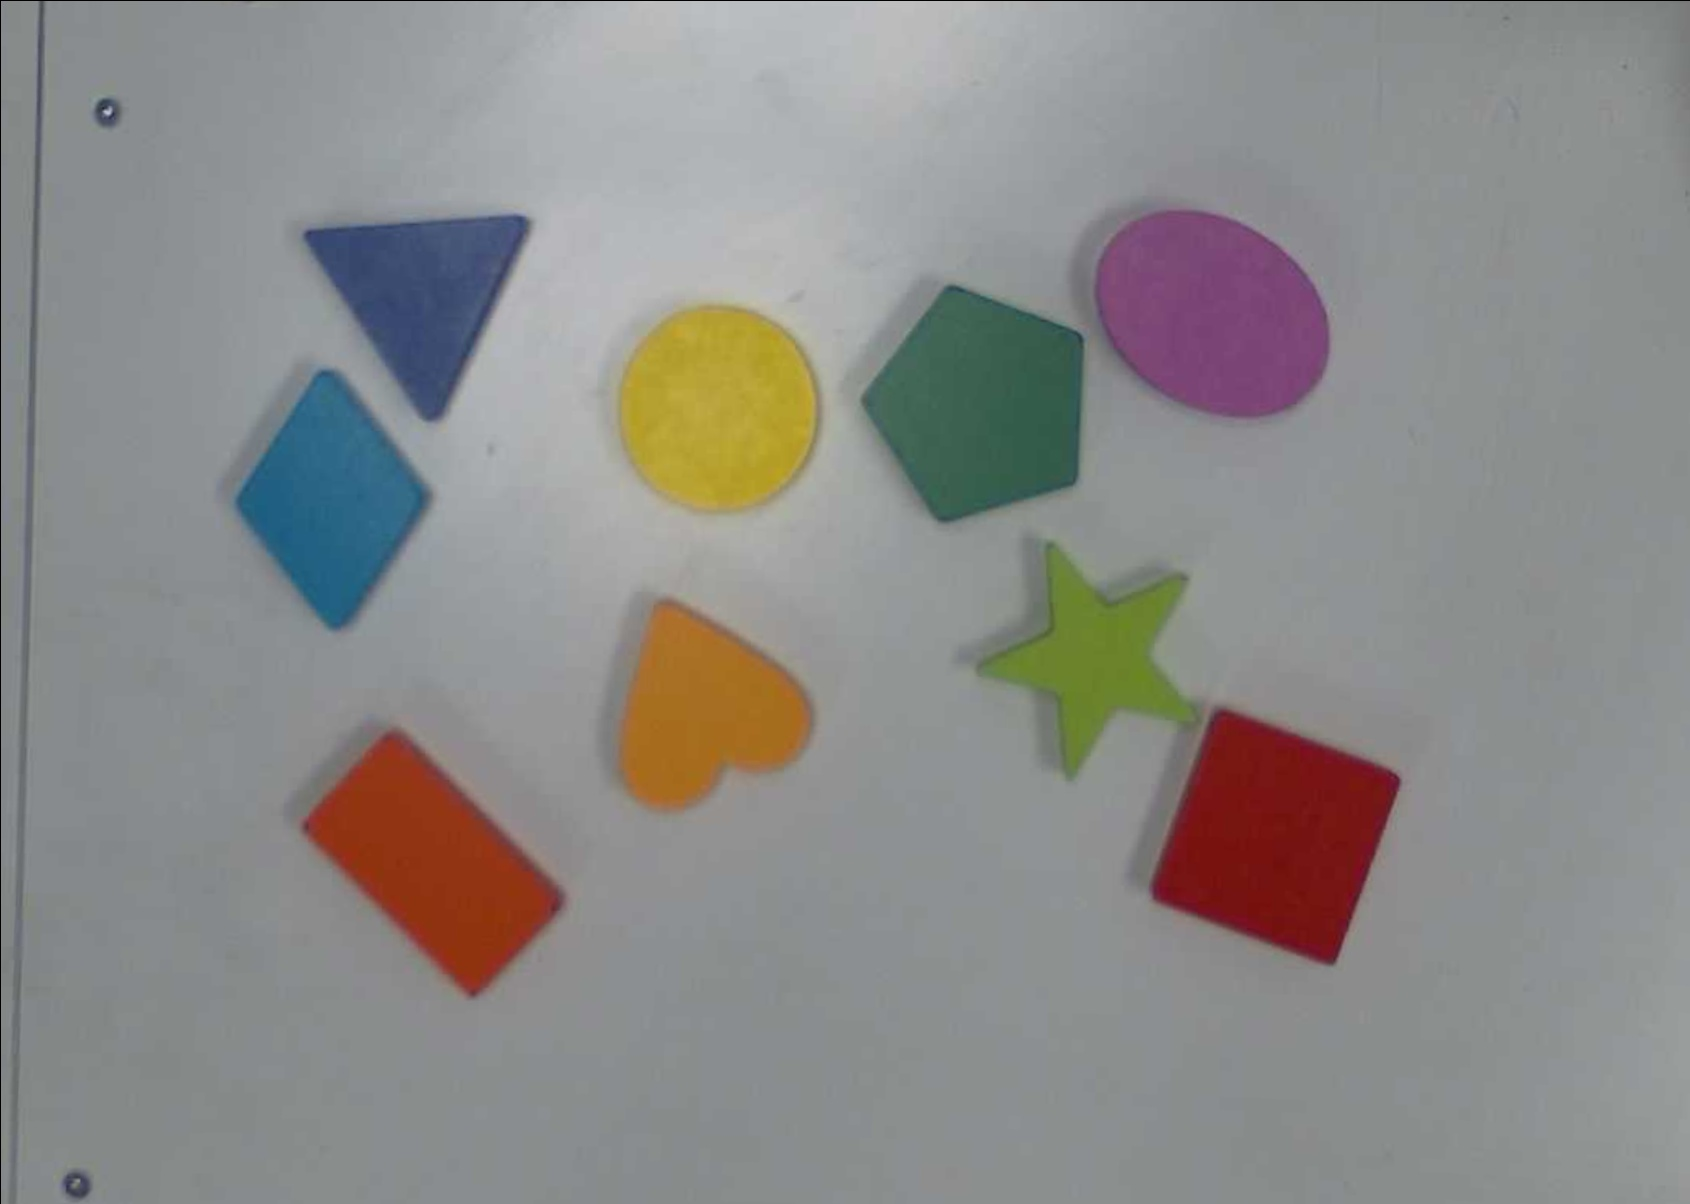Circle: (612, 301, 824, 516)
Ellipse: (1091, 207, 1338, 420)
Heart: (615, 598, 820, 814)
Parallelogram: (231, 367, 430, 636)
Pentagon: (853, 280, 1092, 528)
Rectangle: (300, 727, 564, 1002)
Square: (1145, 705, 1405, 967)
Star: (973, 537, 1203, 778)
Triangle: (301, 211, 532, 425)
